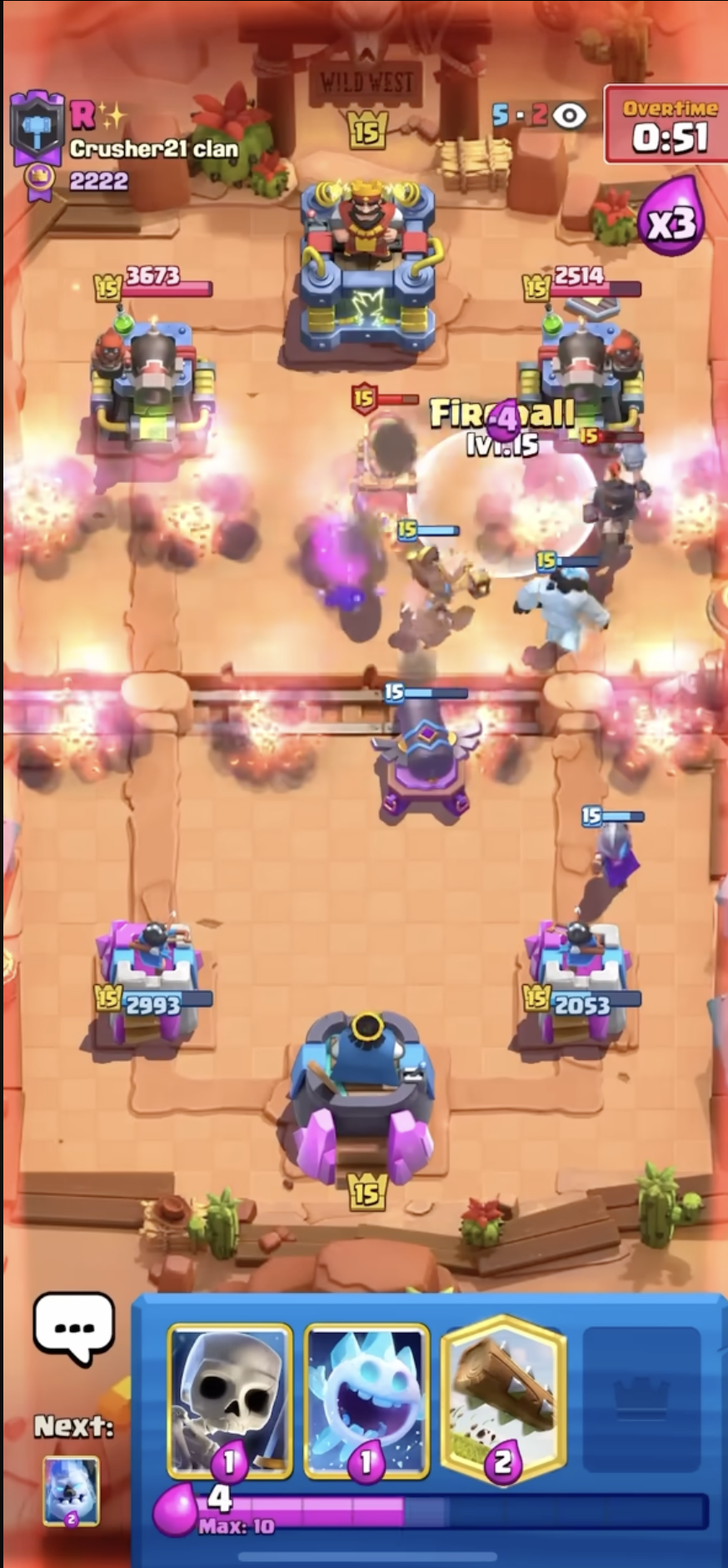evo-cannon: (369, 676, 487, 827)
evo-musketeer: (558, 784, 683, 906)
hog-rider: (383, 523, 491, 669)
ice-golem: (525, 537, 616, 684)
